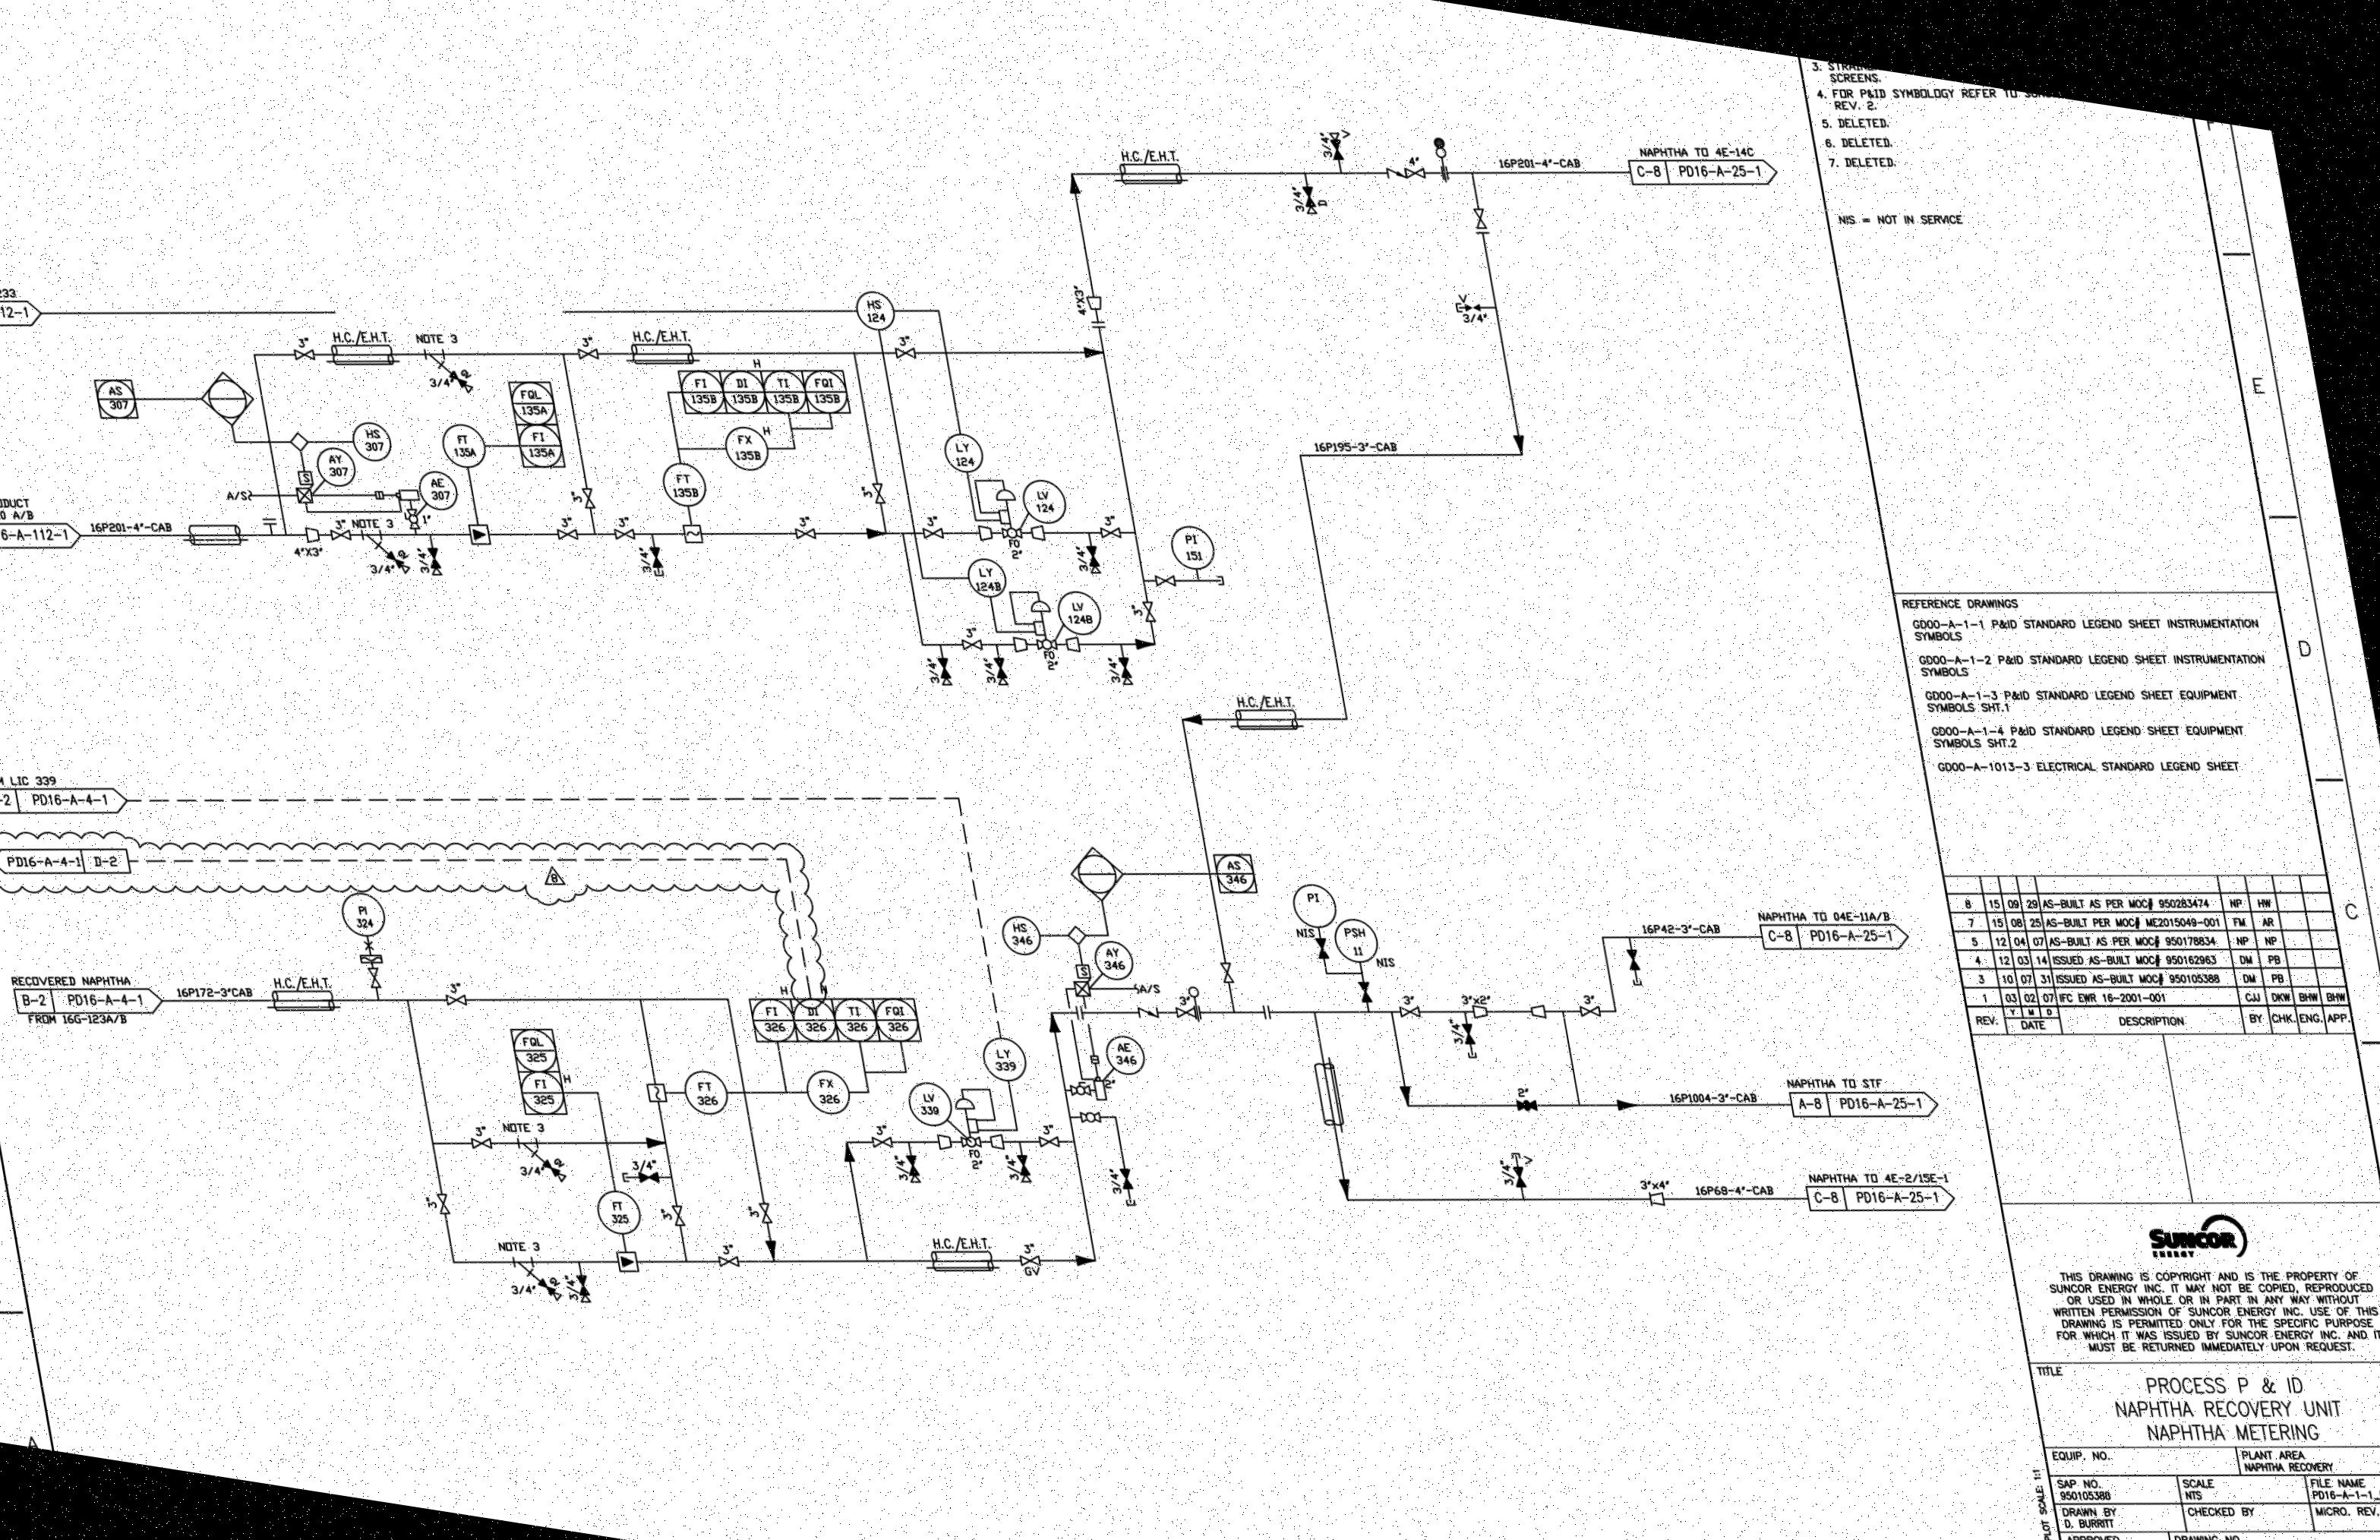DrainValve: (1327, 125, 1348, 173), (938, 650, 958, 697), (994, 652, 1013, 695), (427, 539, 446, 583), (1119, 652, 1138, 692)
GateValve: (756, 1197, 775, 1233), (871, 477, 888, 512), (961, 635, 989, 656), (1100, 524, 1128, 545), (921, 524, 949, 545), (1141, 597, 1159, 630), (671, 1200, 689, 1231), (791, 525, 819, 545), (581, 484, 598, 513)
